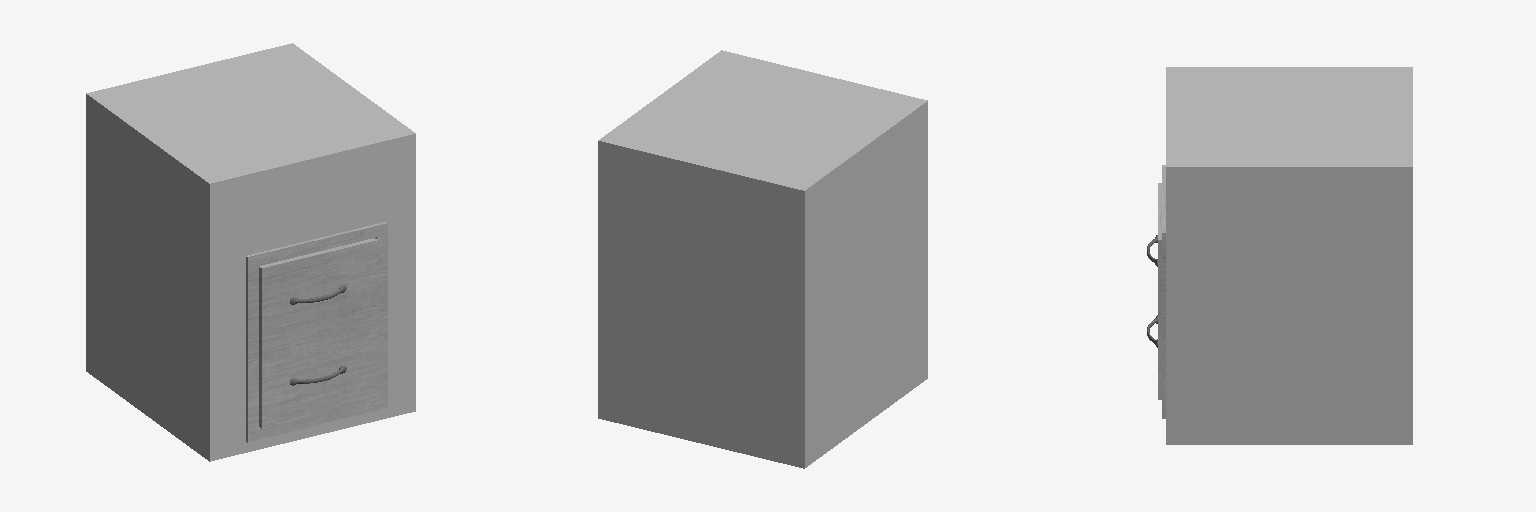
3 renders of one model, left to right at view 1: azimuth 30°, elevation 25°; view 2: azimuth 150°, elevation 25°; view 3: azimuth 270°, elevation 25°, orthographic.
Parts seen in each view (by area): view 1: Mesh4 Group1 Model, Mesh3 Component_7_1 Group1 Model; view 2: Mesh4 Group1 Model; view 3: Mesh4 Group1 Model, Mesh3 Component_7_1 Group1 Model.
Boxes of the visible parts, <box> form: Mesh4 Group1 Model: <box>86,43,415,461</box>; Mesh3 Component_7_1 Group1 Model: <box>246,222,387,442</box>; Mesh4 Group1 Model: <box>598,50,927,468</box>; Mesh4 Group1 Model: <box>1166,67,1412,444</box>; Mesh3 Component_7_1 Group1 Model: <box>1158,165,1165,418</box>.
Size of the model in its own units: 28 by 36 by 31.29.
Materials: 4 (1 with a texture image).